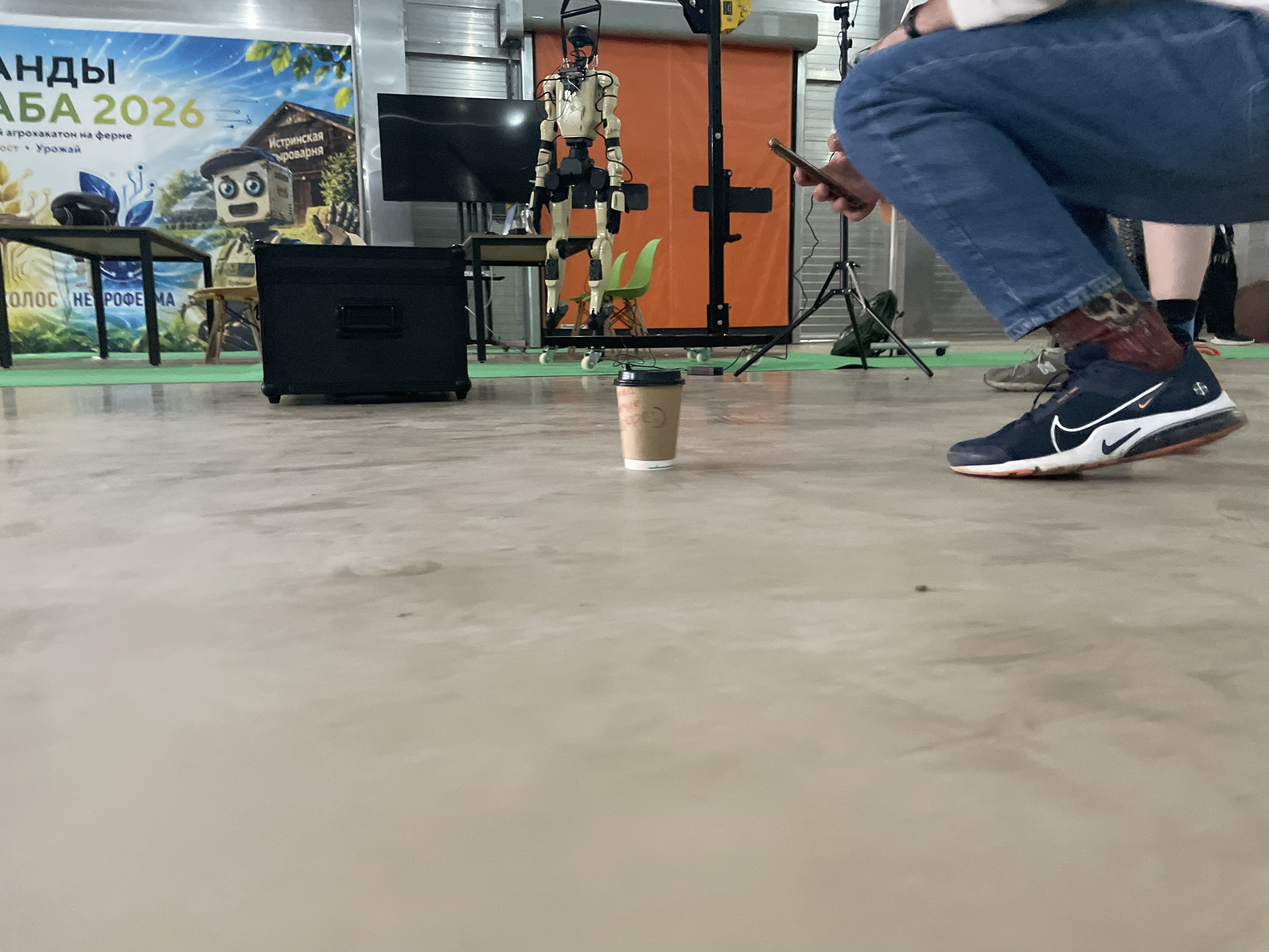cup: (613, 364, 686, 471)
